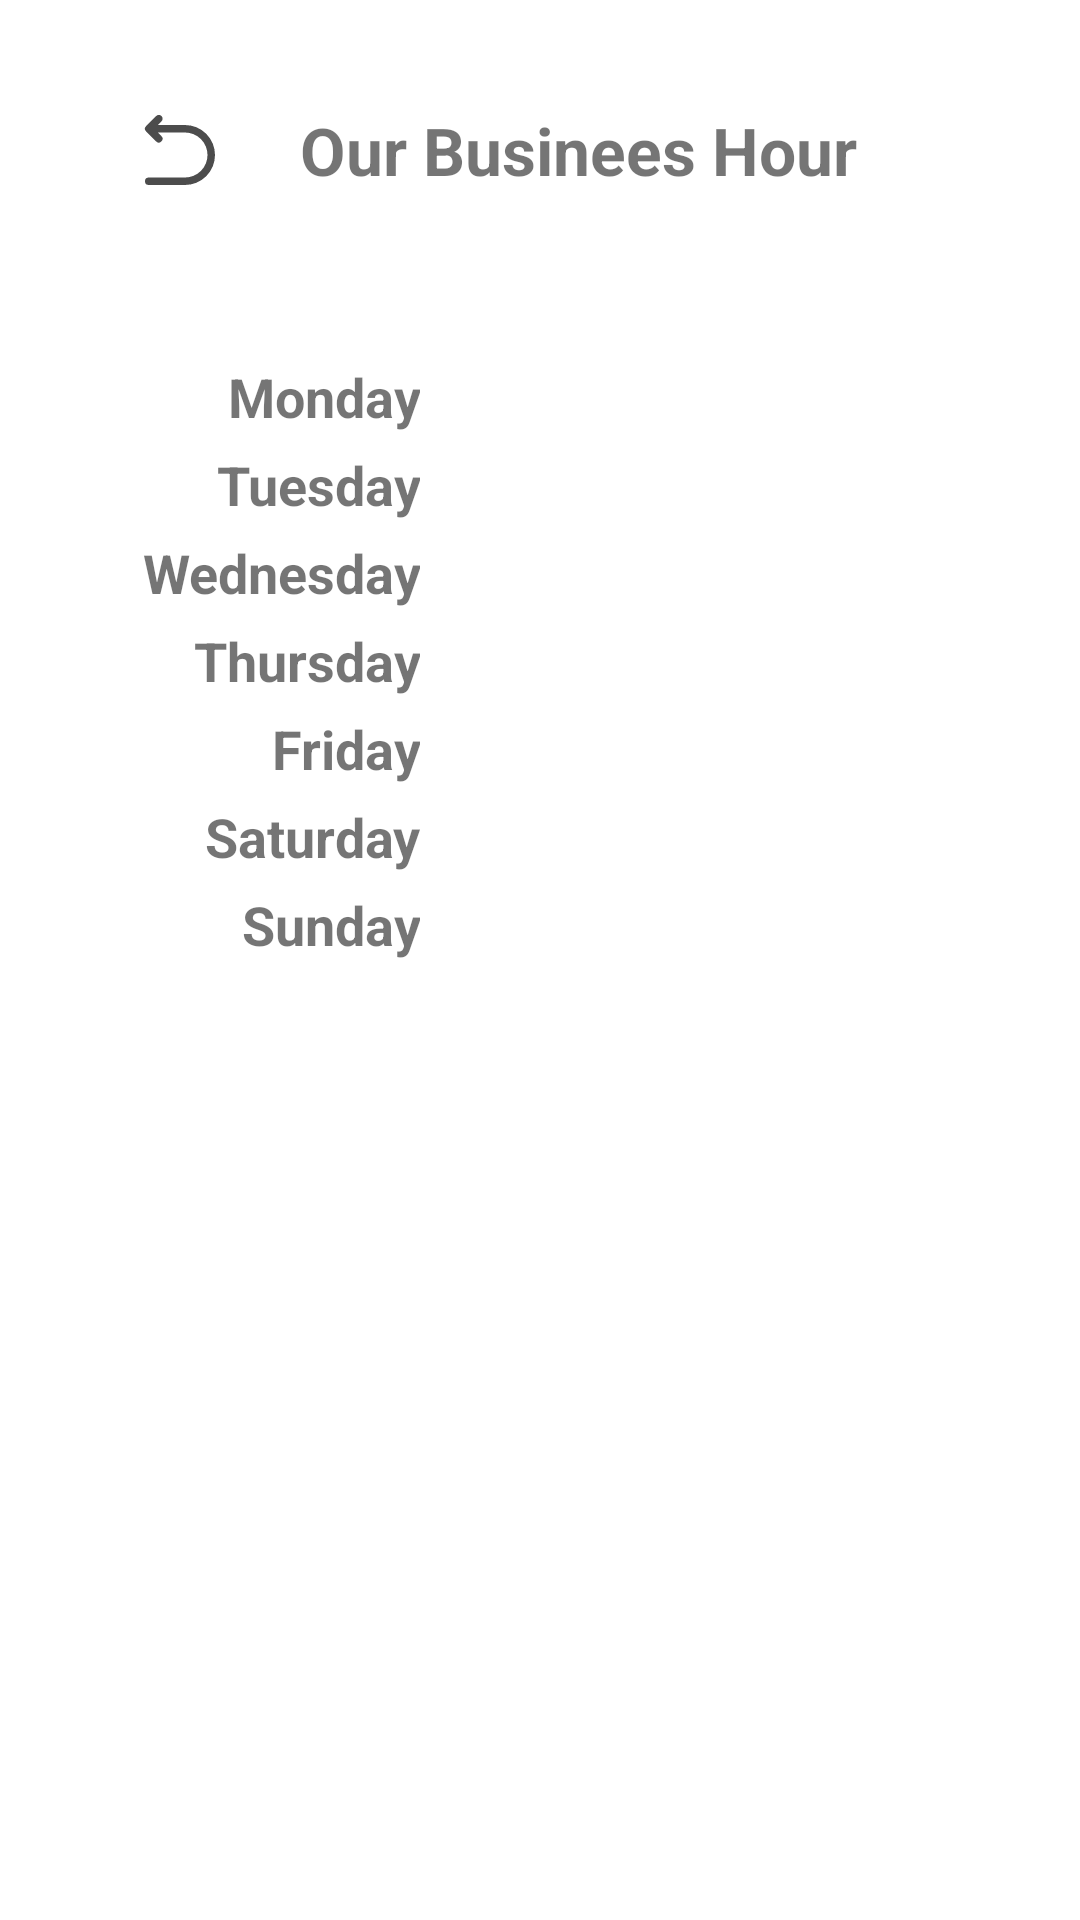

Icon bounding boxes for this 1080 × 1920 phone screenshot, format region(x1, y1, x2, y2):
back arrow: region(144, 115, 215, 185)
